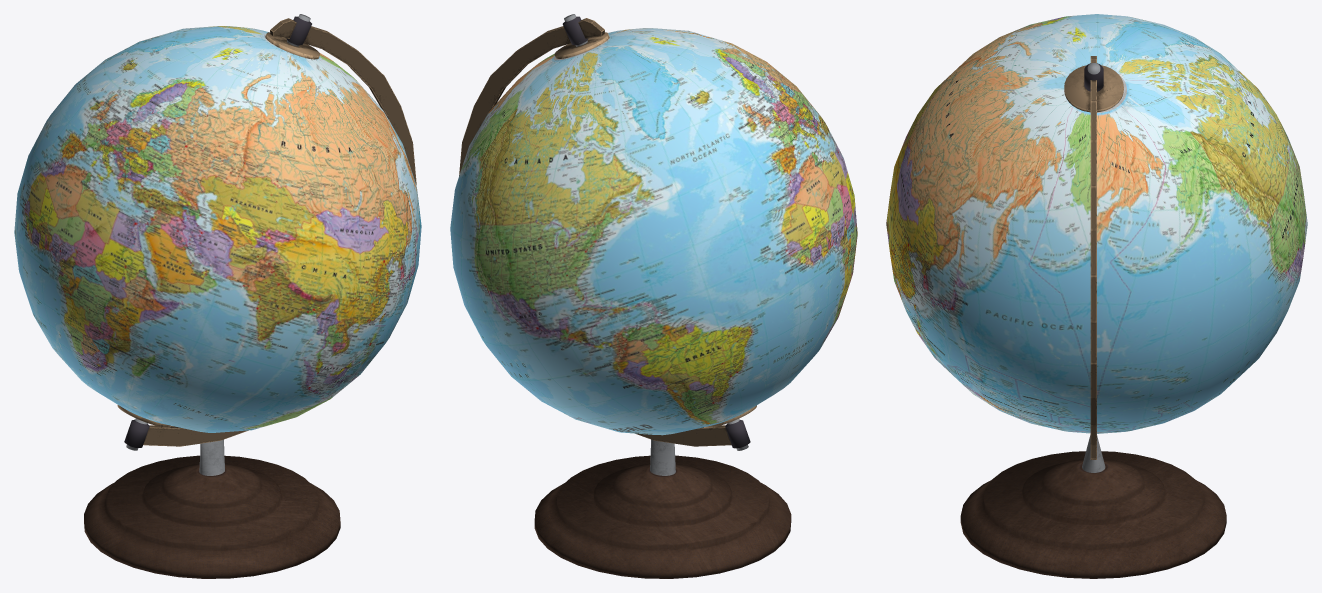
Rendered from earth1.glb.
3 views of the same model, side by side, from view 1: azimuth 30°, elevation 25°; view 2: azimuth 150°, elevation 25°; view 3: azimuth 270°, elevation 25° (orthographic). The views are drawn at different scales.
Parts seen in each view (by area): view 1: Cylinder__0_4; view 2: Cylinder__0_4; view 3: Cylinder__0_4.
Part boxes in pixels (x1,y1,x2,y2): Cylinder__0_4: [14, 14, 421, 578]; Cylinder__0_4: [450, 14, 857, 578]; Cylinder__0_4: [886, 14, 1307, 578].
Size of the model in its own units: 322 by 404 by 306.
Materials: 1 (1 with a texture image).
